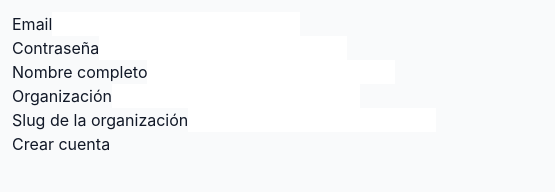
it: RegisterForm › rejects invalid organization slugs
Type "ana@b.c" into the field labelled "Email" at coordinates (176, 24), box [52,12,300,36]
Type "super-secret-123" into the password field labelled "Contraseña" at coordinates (223, 48), box [99,36,347,60]
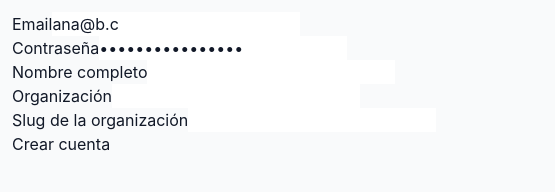
Type "Ana González" into the field labelled "Nombre completo" at coordinates (272, 72), box [148,60,396,84]
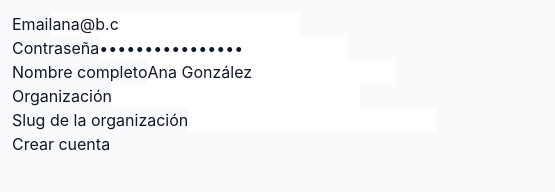
Type "Torre Norte" into the field labelled "Organización" at coordinates (236, 96), box [112,84,360,108]
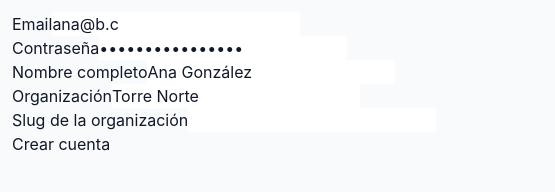
Type "torre-norte" into the field labelled "Slug de la organización" at coordinates (312, 120), box [188,108,436,132]
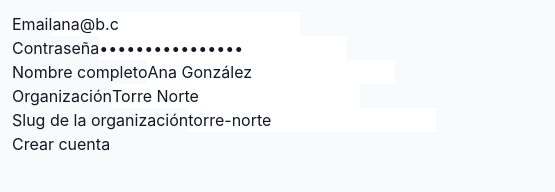
Replace the text in the field labelled "Slug de la organización" with "Torre Norte!" at coordinates (312, 120), box [188,108,436,132]
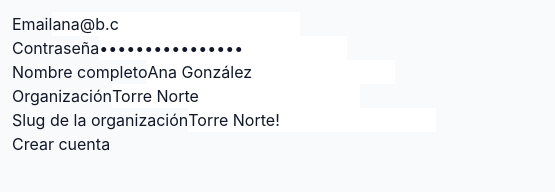
Click the button "Crear cuenta" at coordinates (61, 144), box [12,132,110,156]
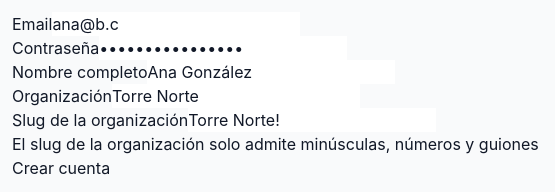
Expected: the message with test id "register-error" shows "slug", [12,134,539,154]
